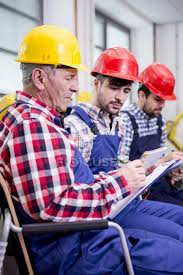Person_wearing_helmet: (17, 20, 85, 79)
